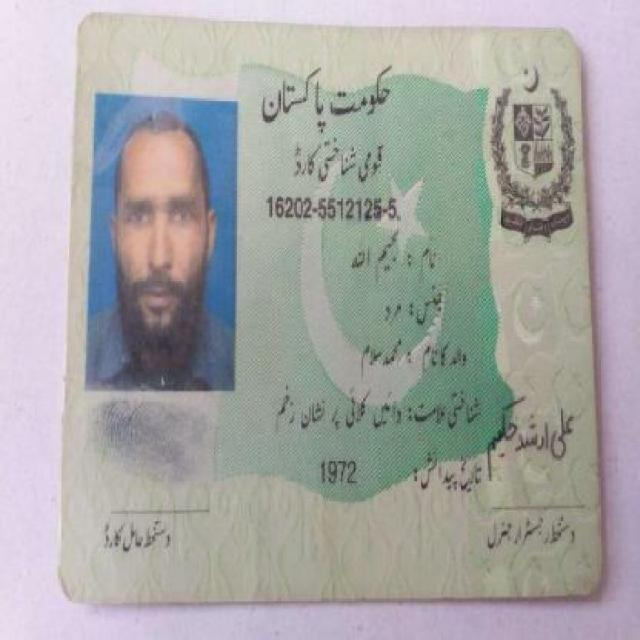Front: (53, 0, 609, 615)
